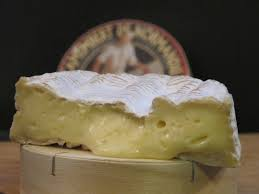camembert: (7, 69, 243, 172)
